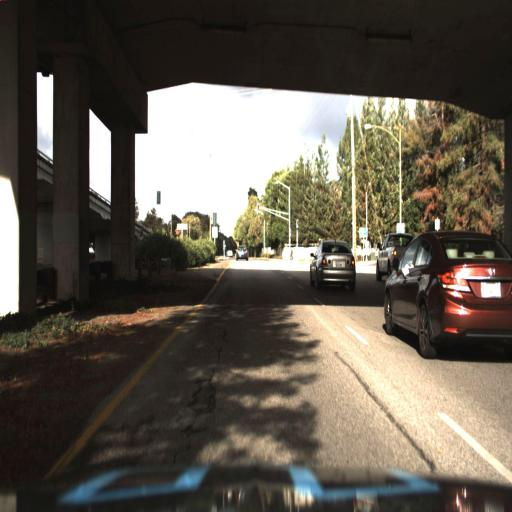car: (385, 223, 510, 390), (307, 232, 358, 294), (229, 244, 246, 264)
